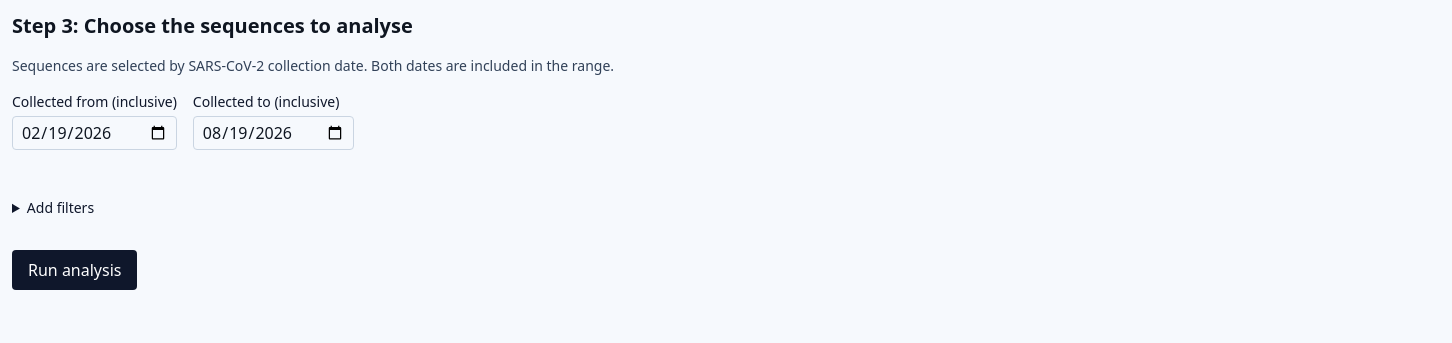
Test: ScopeControls › rejects an inverted date range
Type "1999-01-01" into the date field labelled "Collected to (inclusive)" at (273, 133), box [193,116,354,150]
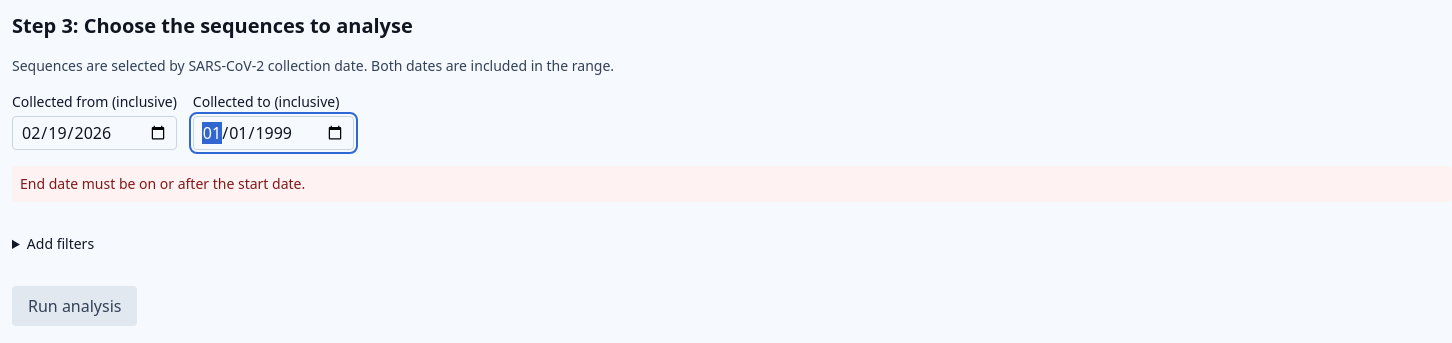
Expected: the button "Run analysis" is enabled, [12,286,138,326]
Expected: the text "End date must be on or after the start date." is shown, [12,166,1451,202]
